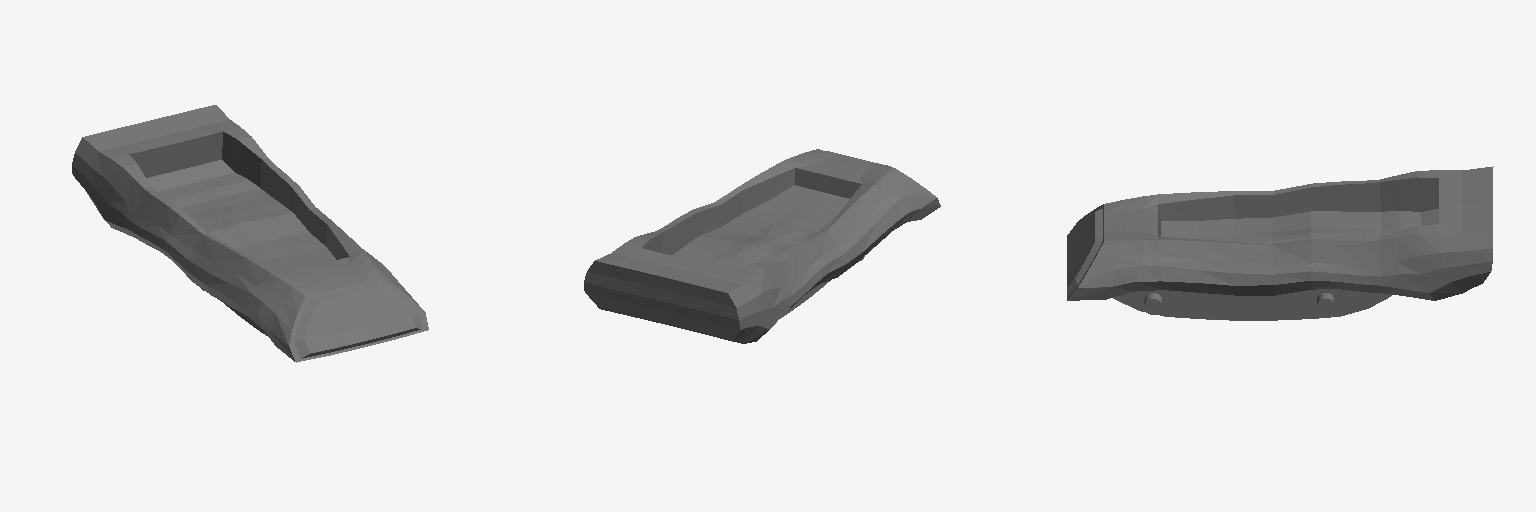
File: bot.obj
3 views of the same model, side by side, from view 1: azimuth 30°, elevation 25°; view 2: azimuth 150°, elevation 25°; view 3: azimuth 270°, elevation 25° (orthographic).
Parts seen in each view (by area): view 1: characterMesh character; view 2: characterMesh character; view 3: characterMesh character.
Part boxes in pixels (x1,y1,x2,y2): characterMesh character: (72, 105, 428, 362); characterMesh character: (584, 149, 940, 343); characterMesh character: (1067, 166, 1493, 320).
Size of the model in its own units: 4.09 by 2.88 by 9.73.